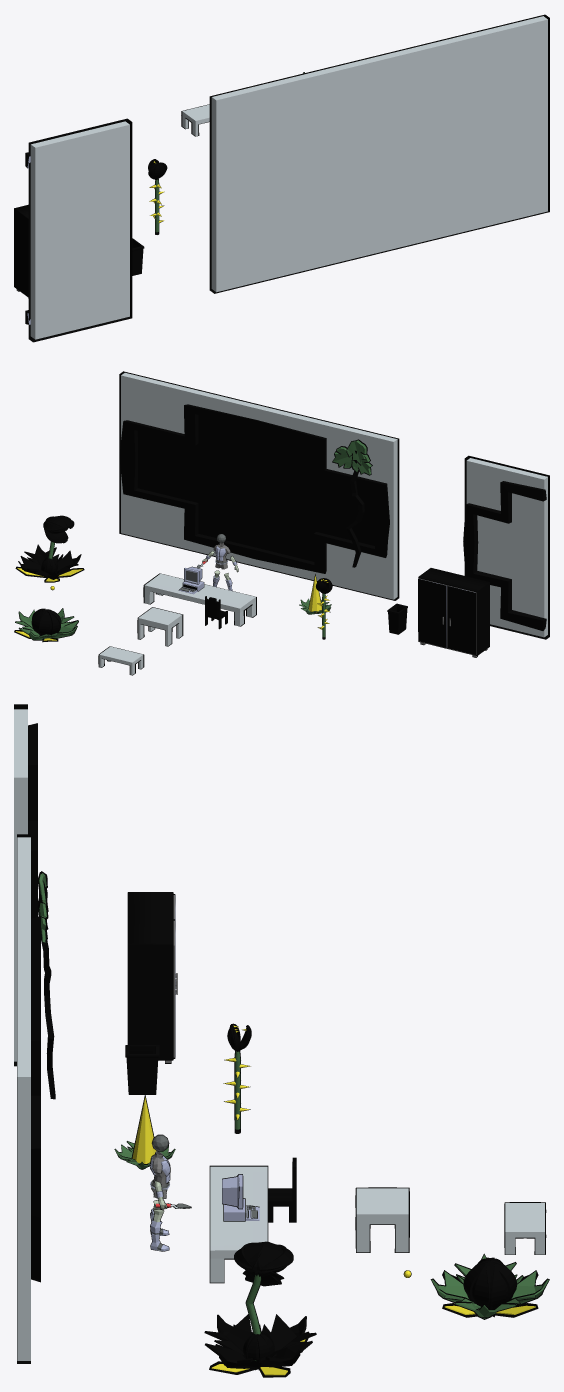
Rendered from Budding5_seperatetrowelandleaf.fbx.
The picture shows the model from 3 angles, top to bottom: view 1: azimuth 30°, elevation 25°; view 2: azimuth 150°, elevation 25°; view 3: azimuth 270°, elevation 25°; orthographic projection. The views are drawn at different scales.
Visible parts, largest first — view 1: wall panel, door_half, cabinet, table3; view 2: wall panel, door_half, cabinet, table1, flower.001, peashooter_base, table2, peashooter_rotate, bud_base, table3, bud_bud, trashcan (+2 smaller); view 3: wall panel, cabinet, table1, door_half, peashooter_base, peashooter_rotate, table2, bud_base, bud_bud, table3, flower.001, trashcan (+3 smaller).
Boxes of the visible parts, x1,y1,x2,y2 form: wall panel: [209, 14, 549, 293]; door_half: [25, 118, 132, 342]; cabinet: [14, 204, 28, 298]; table3: [181, 104, 209, 136]; wall panel: [119, 371, 399, 600]; door_half: [463, 455, 549, 639]; cabinet: [418, 568, 489, 657]; table1: [143, 573, 256, 626]; flower.001: [332, 439, 372, 567]; peashooter_base: [18, 544, 81, 579]; table2: [137, 607, 183, 646]; peashooter_rotate: [15, 515, 84, 582]; bud_base: [15, 608, 78, 640]; table3: [98, 646, 144, 675]; bud_bud: [31, 608, 61, 635]; trashcan: [387, 603, 407, 634]; wall panel: [17, 834, 40, 1363]; cabinet: [127, 892, 177, 1063]; table1: [209, 1165, 268, 1283]; door_half: [14, 704, 37, 1066]; peashooter_base: [204, 1314, 316, 1369]; peashooter_rotate: [209, 1241, 309, 1377]; table2: [355, 1187, 409, 1252]; bud_base: [430, 1253, 549, 1319]; bud_bud: [463, 1257, 516, 1309]; table3: [504, 1202, 546, 1254]; flower.001: [37, 871, 55, 1099]; trashcan: [125, 1045, 159, 1094].
Size of the model in its own units: 1528 by 514 by 855.
